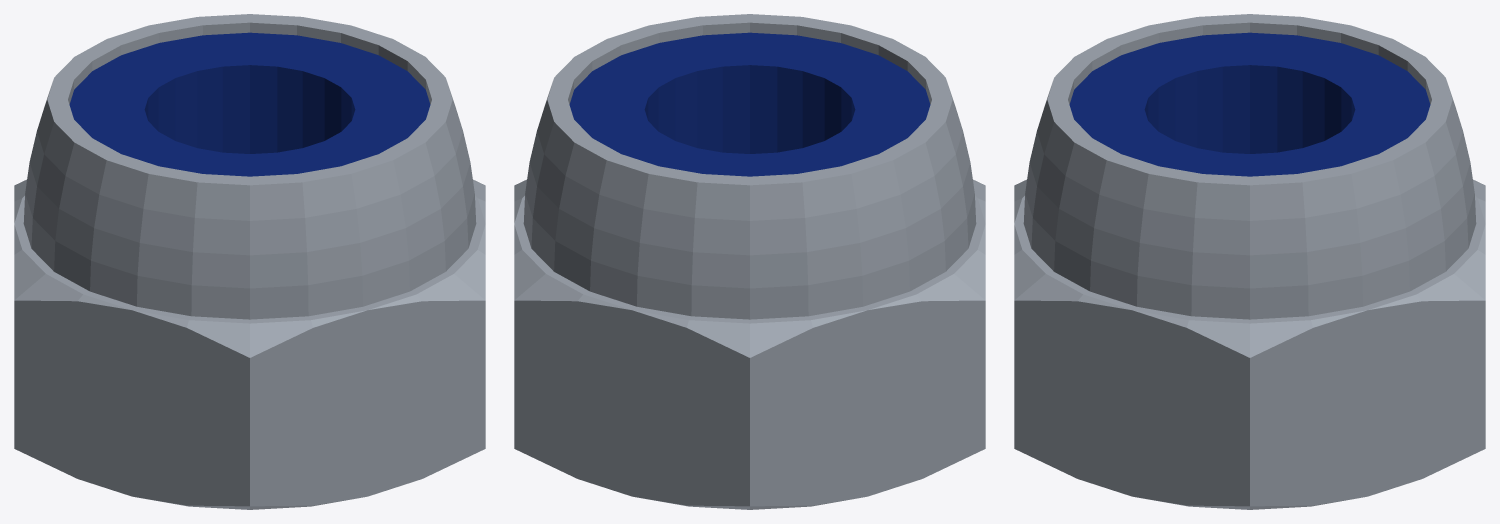
Rendered from model_display.glb.
3 views of the same model, side by side, from view 1: azimuth 30°, elevation 25°; view 2: azimuth 150°, elevation 25°; view 3: azimuth 270°, elevation 25° (orthographic).
Parts seen in each view (by area): view 1: steel, nylon_insert; view 2: steel, nylon_insert; view 3: steel, nylon_insert.
Boxes of the visible parts, left/top/right/bottom form: steel: left=14, top=14, right=485, bottom=509; nylon_insert: left=69, top=32, right=430, bottom=176; steel: left=514, top=14, right=985, bottom=509; nylon_insert: left=569, top=32, right=930, bottom=176; steel: left=1014, top=14, right=1485, bottom=509; nylon_insert: left=1069, top=32, right=1430, bottom=176.
Bounding box in the file's own units: 0.00635 × 0.004 × 0.0055.
